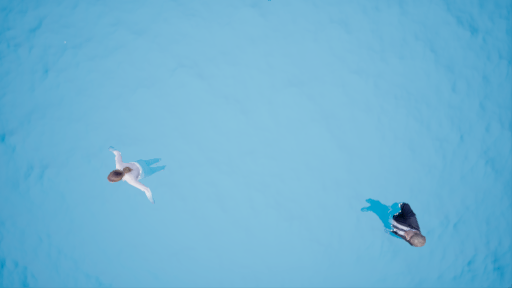person: (100, 145, 178, 206), (362, 193, 432, 255)
